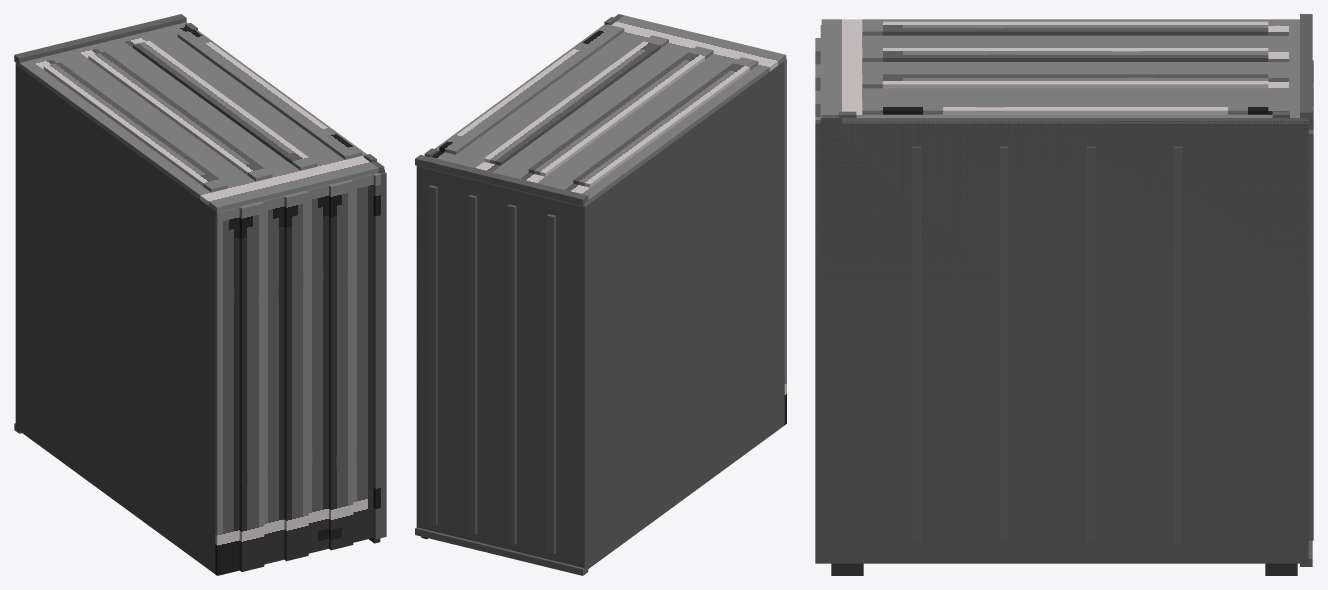
File: CMU3DFreightAU14ContainerUSCMRight.glb
3 renders of one model, left to right at view 1: azimuth 30°, elevation 25°; view 2: azimuth 150°, elevation 25°; view 3: azimuth 270°, elevation 25°, orthographic. The views are drawn at different scales.
Parts seen in each view (by area): view 1: closed cargo shell, source-painted corrugated roof, painted corrugation 2, painted corrugation 4, painted corrugation 6, painted corrugation 1, painted corrugation 7, painted corrugation 3, painted corrugation 5, painted corrugation 8, source-painted roof ridge 4, source-painted roof ridge 2 (+3 smaller); view 2: closed cargo shell, source-painted corrugated roof, rear wall corrugation (×4), rear horizontal frame (×2), source-painted roof ridge 1, source-painted roof ridge 2, source-painted roof ridge 4, source-painted roof ridge 3, painted corrugation 1, outer end wall; view 3: closed cargo shell, source-painted corrugated roof, outer end wall, end wall rib (×4), source-painted roof ridge 1, source-painted roof ridge 3, source-painted roof ridge 4, source-painted roof ridge 2, painted corrugation 8, rear wall corrugation, rear horizontal frame.
Boxes of the visible parts, box(x1,y1,x2,y2) form: closed cargo shell: box(15, 65, 215, 573); source-painted corrugated roof: box(15, 22, 384, 211); painted corrugation 2: box(239, 201, 264, 571); painted corrugation 4: box(284, 190, 308, 561); painted corrugation 6: box(329, 179, 353, 550); painted corrugation 1: box(215, 207, 239, 575); painted corrugation 7: box(351, 174, 373, 542); painted corrugation 3: box(262, 196, 284, 564); painted corrugation 5: box(306, 185, 328, 553); painted corrugation 8: box(373, 172, 386, 539); source-painted roof ridge 4: box(177, 30, 361, 159); source-painted roof ridge 2: box(88, 51, 272, 181); closed cargo shell: box(416, 61, 784, 568); source-painted corrugated roof: box(417, 14, 786, 207); rear wall corrugation (×4): box(428, 185, 555, 553); rear horizontal frame (×2): box(415, 155, 588, 575); source-painted roof ridge 1: box(573, 57, 758, 187); source-painted roof ridge 2: box(528, 46, 713, 176); source-painted roof ridge 4: box(439, 24, 624, 154); source-painted roof ridge 3: box(484, 35, 668, 165); painted corrugation 1: box(784, 59, 786, 424); outer end wall: box(416, 166, 422, 431); closed cargo shell: box(825, 123, 1308, 563); source-painted corrugated roof: box(821, 19, 1308, 123); outer end wall: box(820, 117, 1308, 372); end wall rib (×4): box(912, 146, 1182, 542); source-painted roof ridge 1: box(862, 21, 1268, 35); source-painted roof ridge 3: box(862, 74, 1268, 88); source-painted roof ridge 4: box(862, 100, 1268, 114); source-painted roof ridge 2: box(862, 48, 1268, 61); painted corrugation 8: box(815, 117, 825, 563); rear wall corrugation: box(1308, 129, 1313, 540); rear horizontal frame: box(1300, 14, 1312, 120).
Size of the model in its own units: 0.9455 by 2.05 by 2.
Materials: 15 (11 with a texture image).
